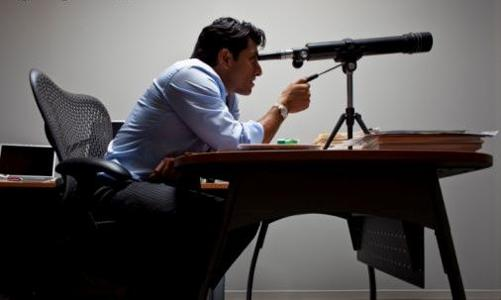person: (102, 18, 309, 273)
